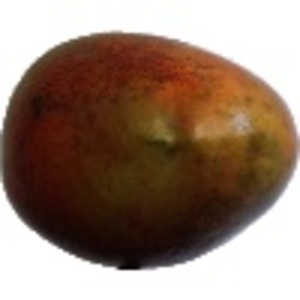manga: (1, 30, 300, 270)
